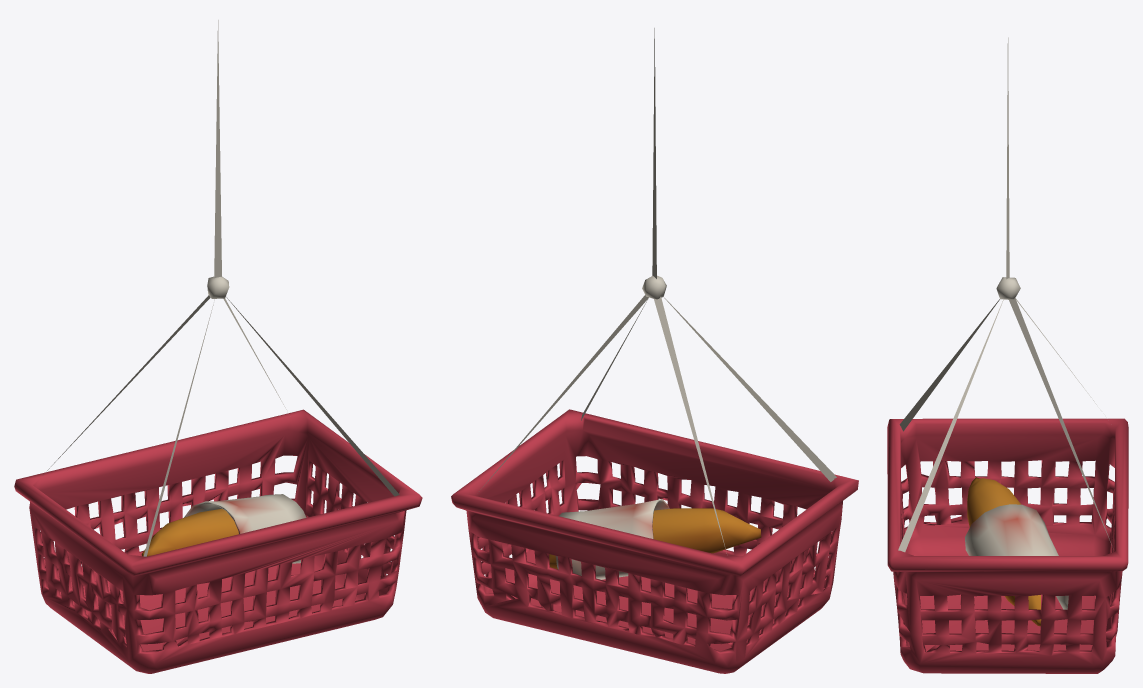
Rendered from gio_co_banh.glb.
3 views of the same model, side by side, from view 1: azimuth 30°, elevation 25°; view 2: azimuth 150°, elevation 25°; view 3: azimuth 270°, elevation 25° (orthographic).
Visible parts, largest first — view 1: gio_co_banh; view 2: gio_co_banh; view 3: gio_co_banh.
Boxes of the visible parts, x1,y1,x2,y2 form: gio_co_banh: (14, 20, 422, 673); gio_co_banh: (451, 28, 858, 673); gio_co_banh: (887, 37, 1128, 673).
Size of the model in its own units: 0.3375 by 0.66 by 0.2388.
